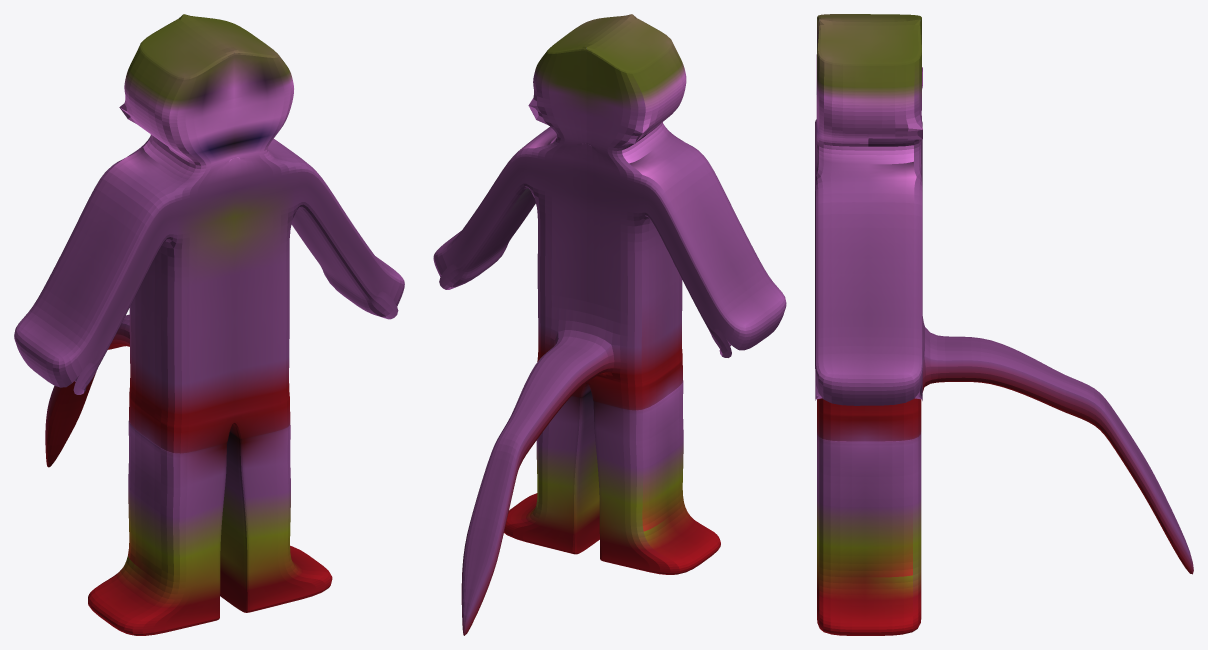
File: teste.fbx
3 views of the same model, side by side, from view 1: azimuth 30°, elevation 25°; view 2: azimuth 150°, elevation 25°; view 3: azimuth 270°, elevation 25° (orthographic). The views are drawn at different scales.
Visible parts, largest first — view 1: Cube; view 2: Cube; view 3: Cube.
Boxes of the visible parts, box(x1,y1,x2,y2) form: Cube: box(14, 14, 404, 635); Cube: box(433, 14, 786, 635); Cube: box(815, 14, 1193, 635).
Bounding box in the file's own units: 797 × 1226 × 737.
